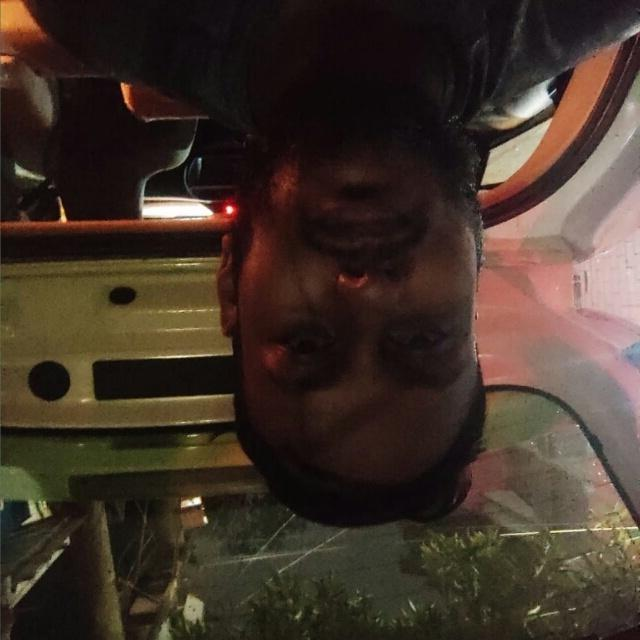Natural: (152, 112, 545, 550)
